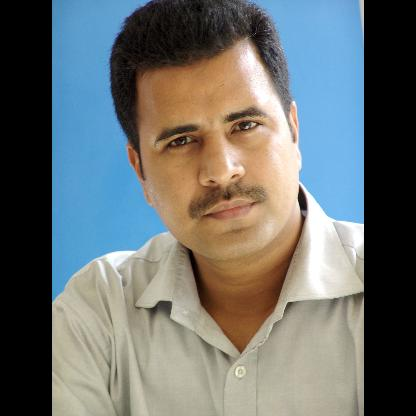Male: (127, 44, 300, 256)
